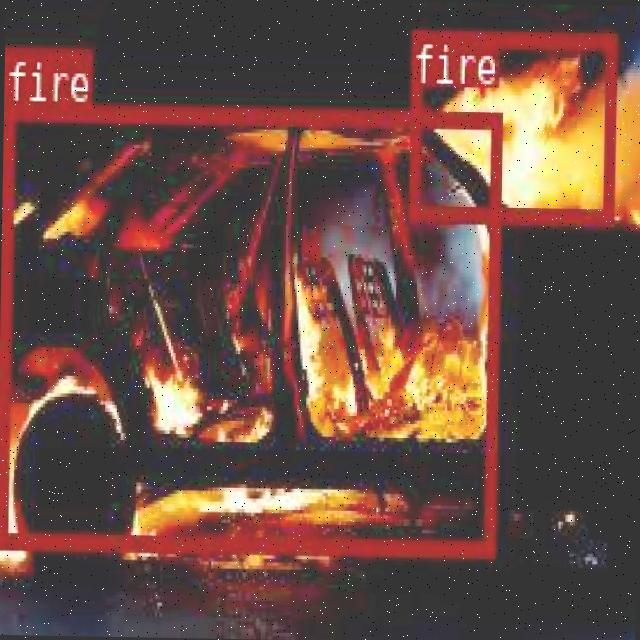fire: (0, 101, 498, 553), (408, 28, 614, 222)
